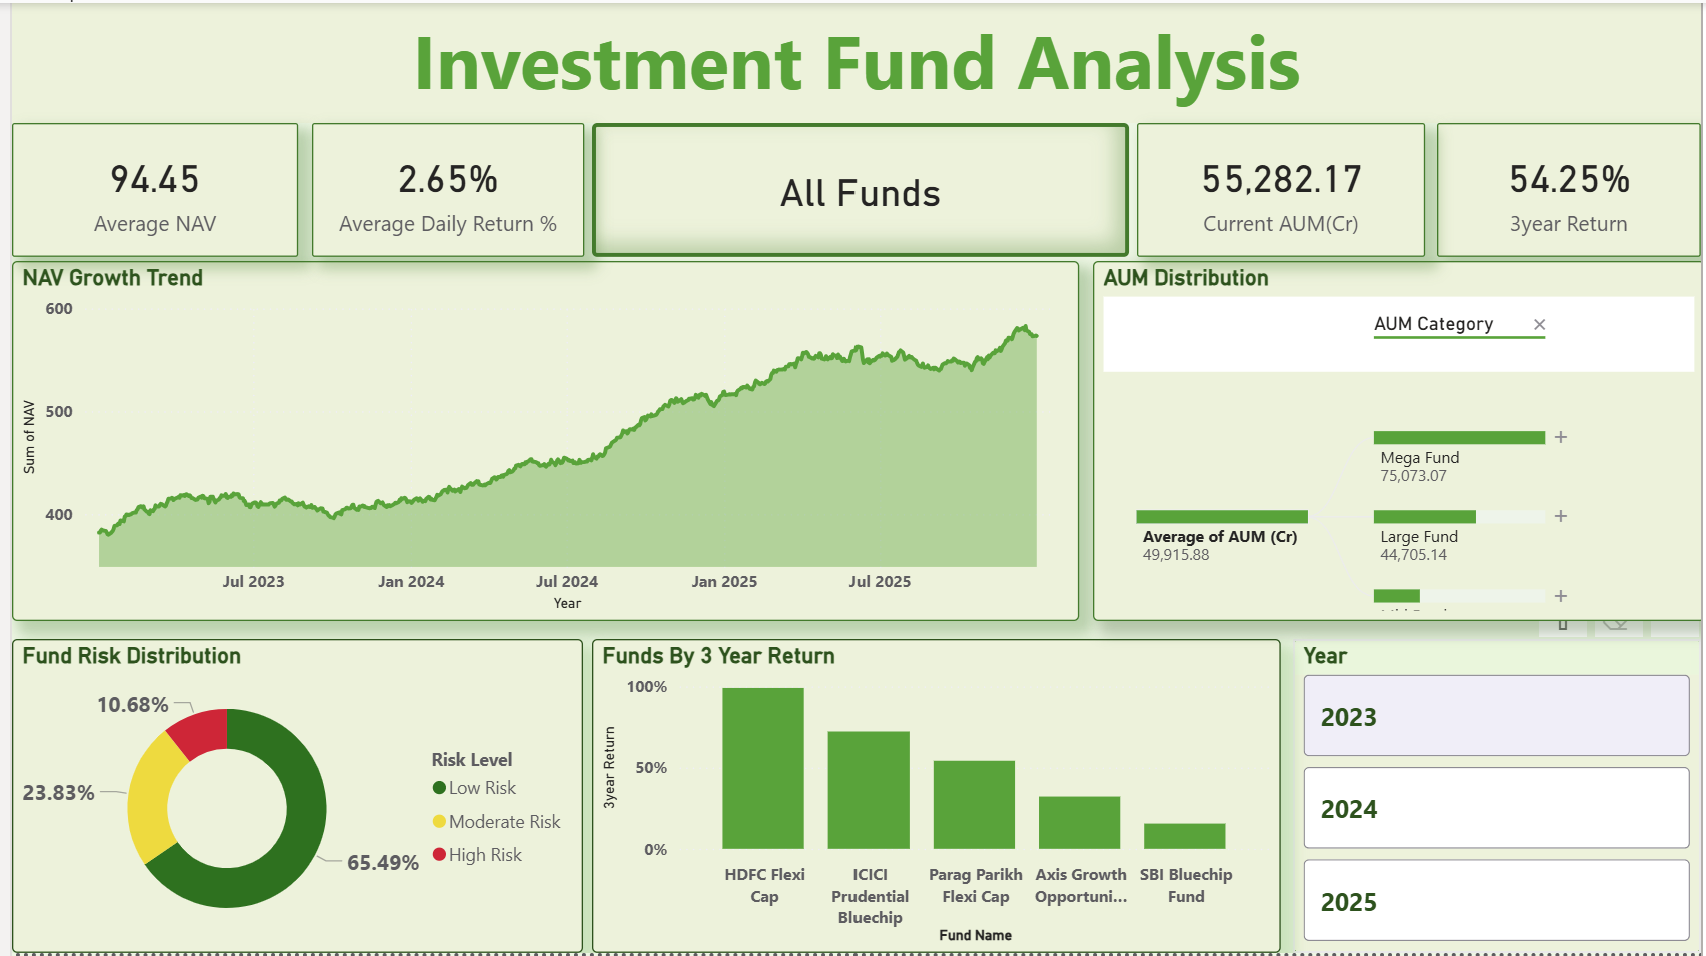

This screenshot's page, from the dashboard's own definition file:
{"tool":"powerbi","page":{"name":"Investment Fund Analysis","canvas":[1280,720],"ordinal":3},"visuals":[{"type":"textbox","box":[0,0,1280,91],"z":0},{"type":"areaChart","title":"NAV Growth Trend ","fields":{"Y":["Sum(Enhanced_Investment_Funds_Updated.NAV)"],"Category":["Enhanced_Investment_Funds_Updated.Date.Variation.Date Hierarchy.Year","Enhanced_Investment_Funds_Updated.Date.Variation.Date Hierarchy.Quarter","Enhanced_Investment_Funds_Updated.Date.Variation.Date Hierarchy.Month","Enhanced_Investment_Funds_Updated.Date.Variation.Date Hierarchy.Day"]},"box":[0,195.6,808.3,273],"z":1000},{"type":"advancedSlicerVisual","fields":{"Values":["Enhanced_Investment_Funds_Updated.Year"]},"box":[970.6,482.3,309.4,238.1],"z":2000},{"type":"donutChart","title":"Fund Risk Distribution ","fields":{"Category":["Enhanced_Investment_Funds_Updated.Risk Level"],"Y":["CountNonNull(Enhanced_Investment_Funds_Updated.Fund Name)"]},"box":[0,482.3,433,238],"z":3000},{"type":"clusteredColumnChart","title":"Funds By 3 Year Return","fields":{"Category":["Enhanced_Investment_Funds_Updated.Fund Name"],"Y":["Investment Fund dax.3year Return"]},"box":[439.8,482.3,521.7,238.1],"z":4000},{"type":"card","fields":{"Values":["Investment Fund dax.3year Return ICICI Prudential Bluechip"]},"box":[1079.8,91,200.2,101.6],"z":5000},{"type":"decompositionTreeVisual","title":"AUM Distribution ","fields":{"Analyze":["Avg(Enhanced_Investment_Funds_Updated.AUM (Cr))"],"ExplainBy":["Enhanced_Investment_Funds_Updated.AUM Category","Enhanced_Investment_Funds_Updated.Performance vs Benchmark","Enhanced_Investment_Funds_Updated.Fund Style","Enhanced_Investment_Funds_Updated.Fund Name","Enhanced_Investment_Funds_Updated.Risk Level","Enhanced_Investment_Funds_Updated.NAV Category"]},"box":[819,195.6,464.1,273],"z":6000},{"type":"card","fields":{"Values":["Investment Fund dax.Current AUM"]},"box":[852.3,91,218.4,101.6],"z":7000},{"type":"card","fields":{"Values":["Investment Fund dax.Fund Name"]},"box":[439.8,91,406.4,101.6],"z":8000},{"type":"card","fields":{"Values":["Investment Fund dax.Average NAV"]},"box":[0,91,216.9,101.6],"z":9000},{"type":"card","fields":{"Values":["Investment Fund dax.Average Daily Return %"]},"box":[227.5,91,206.3,101.6],"z":10000}]}

Visuals, with their boxes in screenshot pixels (x1, y1, x2, y2), scaled from the page's 1280x720 canvas onto the 1706x956 screenshot:
textbox: Rect(0, 0, 1705, 121)
"NAV Growth Trend " areaChart: Rect(0, 260, 1077, 622)
advancedSlicerVisual - Enhanced_Investment_Funds_Updated.Year: Rect(1294, 640, 1705, 955)
"Fund Risk Distribution " donutChart: Rect(0, 640, 577, 955)
"Funds By 3 Year Return" clusteredColumnChart: Rect(586, 640, 1281, 955)
card - Investment Fund dax.3year Return ICICI Prudential Bluechip: Rect(1439, 121, 1705, 256)
"AUM Distribution " decompositionTreeVisual: Rect(1092, 260, 1705, 622)
card - Investment Fund dax.Current AUM: Rect(1136, 121, 1427, 256)
card - Investment Fund dax.Fund Name: Rect(586, 121, 1128, 256)
card - Investment Fund dax.Average NAV: Rect(0, 121, 289, 256)
card - Investment Fund dax.Average Daily Return %: Rect(303, 121, 578, 256)
